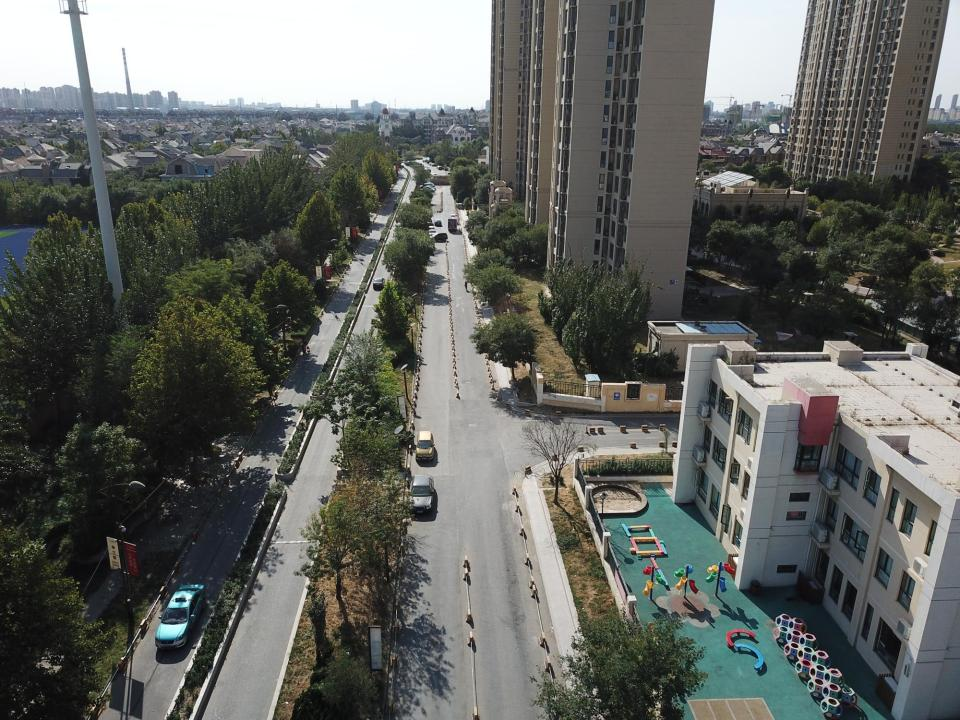car: (155, 584, 207, 649), (406, 474, 434, 514), (414, 431, 436, 461), (372, 277, 386, 288), (422, 186, 435, 192), (422, 185, 436, 190), (423, 183, 435, 188), (428, 229, 436, 236), (434, 219, 442, 226), (426, 222, 434, 228), (423, 182, 435, 186), (424, 168, 432, 173), (428, 226, 435, 231), (449, 214, 456, 219), (429, 172, 437, 176), (422, 168, 430, 172), (430, 171, 435, 175), (425, 166, 430, 170), (430, 163, 436, 166), (438, 166, 442, 170), (436, 166, 441, 169), (423, 160, 429, 162), (429, 162, 433, 165)
truck: (448, 216, 457, 232)
van: (430, 232, 448, 242), (445, 171, 451, 176), (410, 152, 417, 156)
